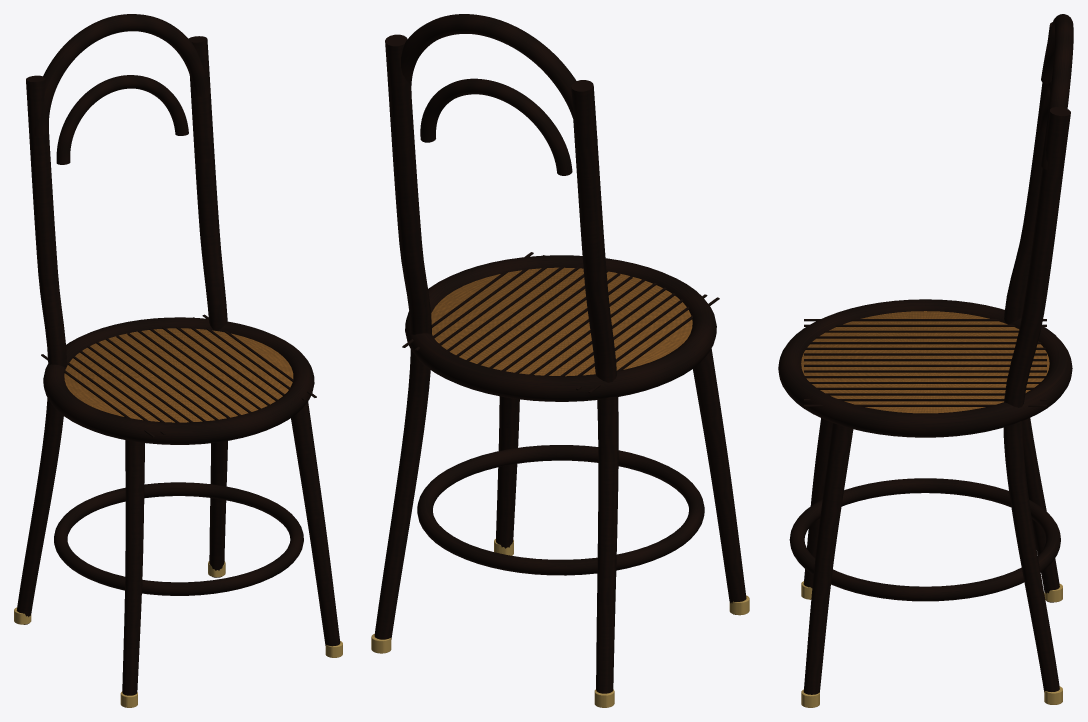
File: chair.glb
The picture shows the model from 3 angles, left to right: view 1: azimuth 30°, elevation 25°; view 2: azimuth 150°, elevation 25°; view 3: azimuth 270°, elevation 25°; orthographic projection. The views are drawn at different scales.
Visible parts, largest first — view 1: back leg (×2), seat, seat ring, front leg (×2), leg ring, back hoop, back hoop inner; view 2: back leg (×2), seat, seat ring, leg ring, front leg (×2), back hoop, back hoop inner; view 3: back leg (×2), seat, seat ring, cane weave (×15), leg ring, front leg (×2), back hoop.
Boxes of the visible parts, <box> form: back leg (×2): <box>16,36,227,624</box>; seat: <box>64,328,293,422</box>; seat ring: <box>43,317,314,444</box>; front leg (×2): <box>122,401,340,695</box>; leg ring: <box>54,482,303,595</box>; back hoop: <box>34,14,210,135</box>; back hoop inner: <box>56,75,188,164</box>; back leg (×2): <box>374,34,618,693</box>; seat: <box>431,267,692,376</box>; seat ring: <box>405,255,716,401</box>; leg ring: <box>417,445,704,575</box>; front leg (×2): <box>496,348,746,614</box>; back hoop: <box>401,14,597,140</box>; back hoop inner: <box>420,78,572,175</box>; back leg (×2): <box>1003,22,1070,691</box>; seat: <box>801,311,1049,413</box>; seat ring: <box>778,299,1072,437</box>; cane weave (×15): <box>804,319,1046,406</box>; leg ring: <box>789,478,1060,601</box>; front leg (×2): <box>803,418,853,694</box>; back hoop: <box>1041,14,1073,169</box>.
Size of the model in its own units: 0.436 by 1.02 by 0.4377.
3 materials, 2 textured.
